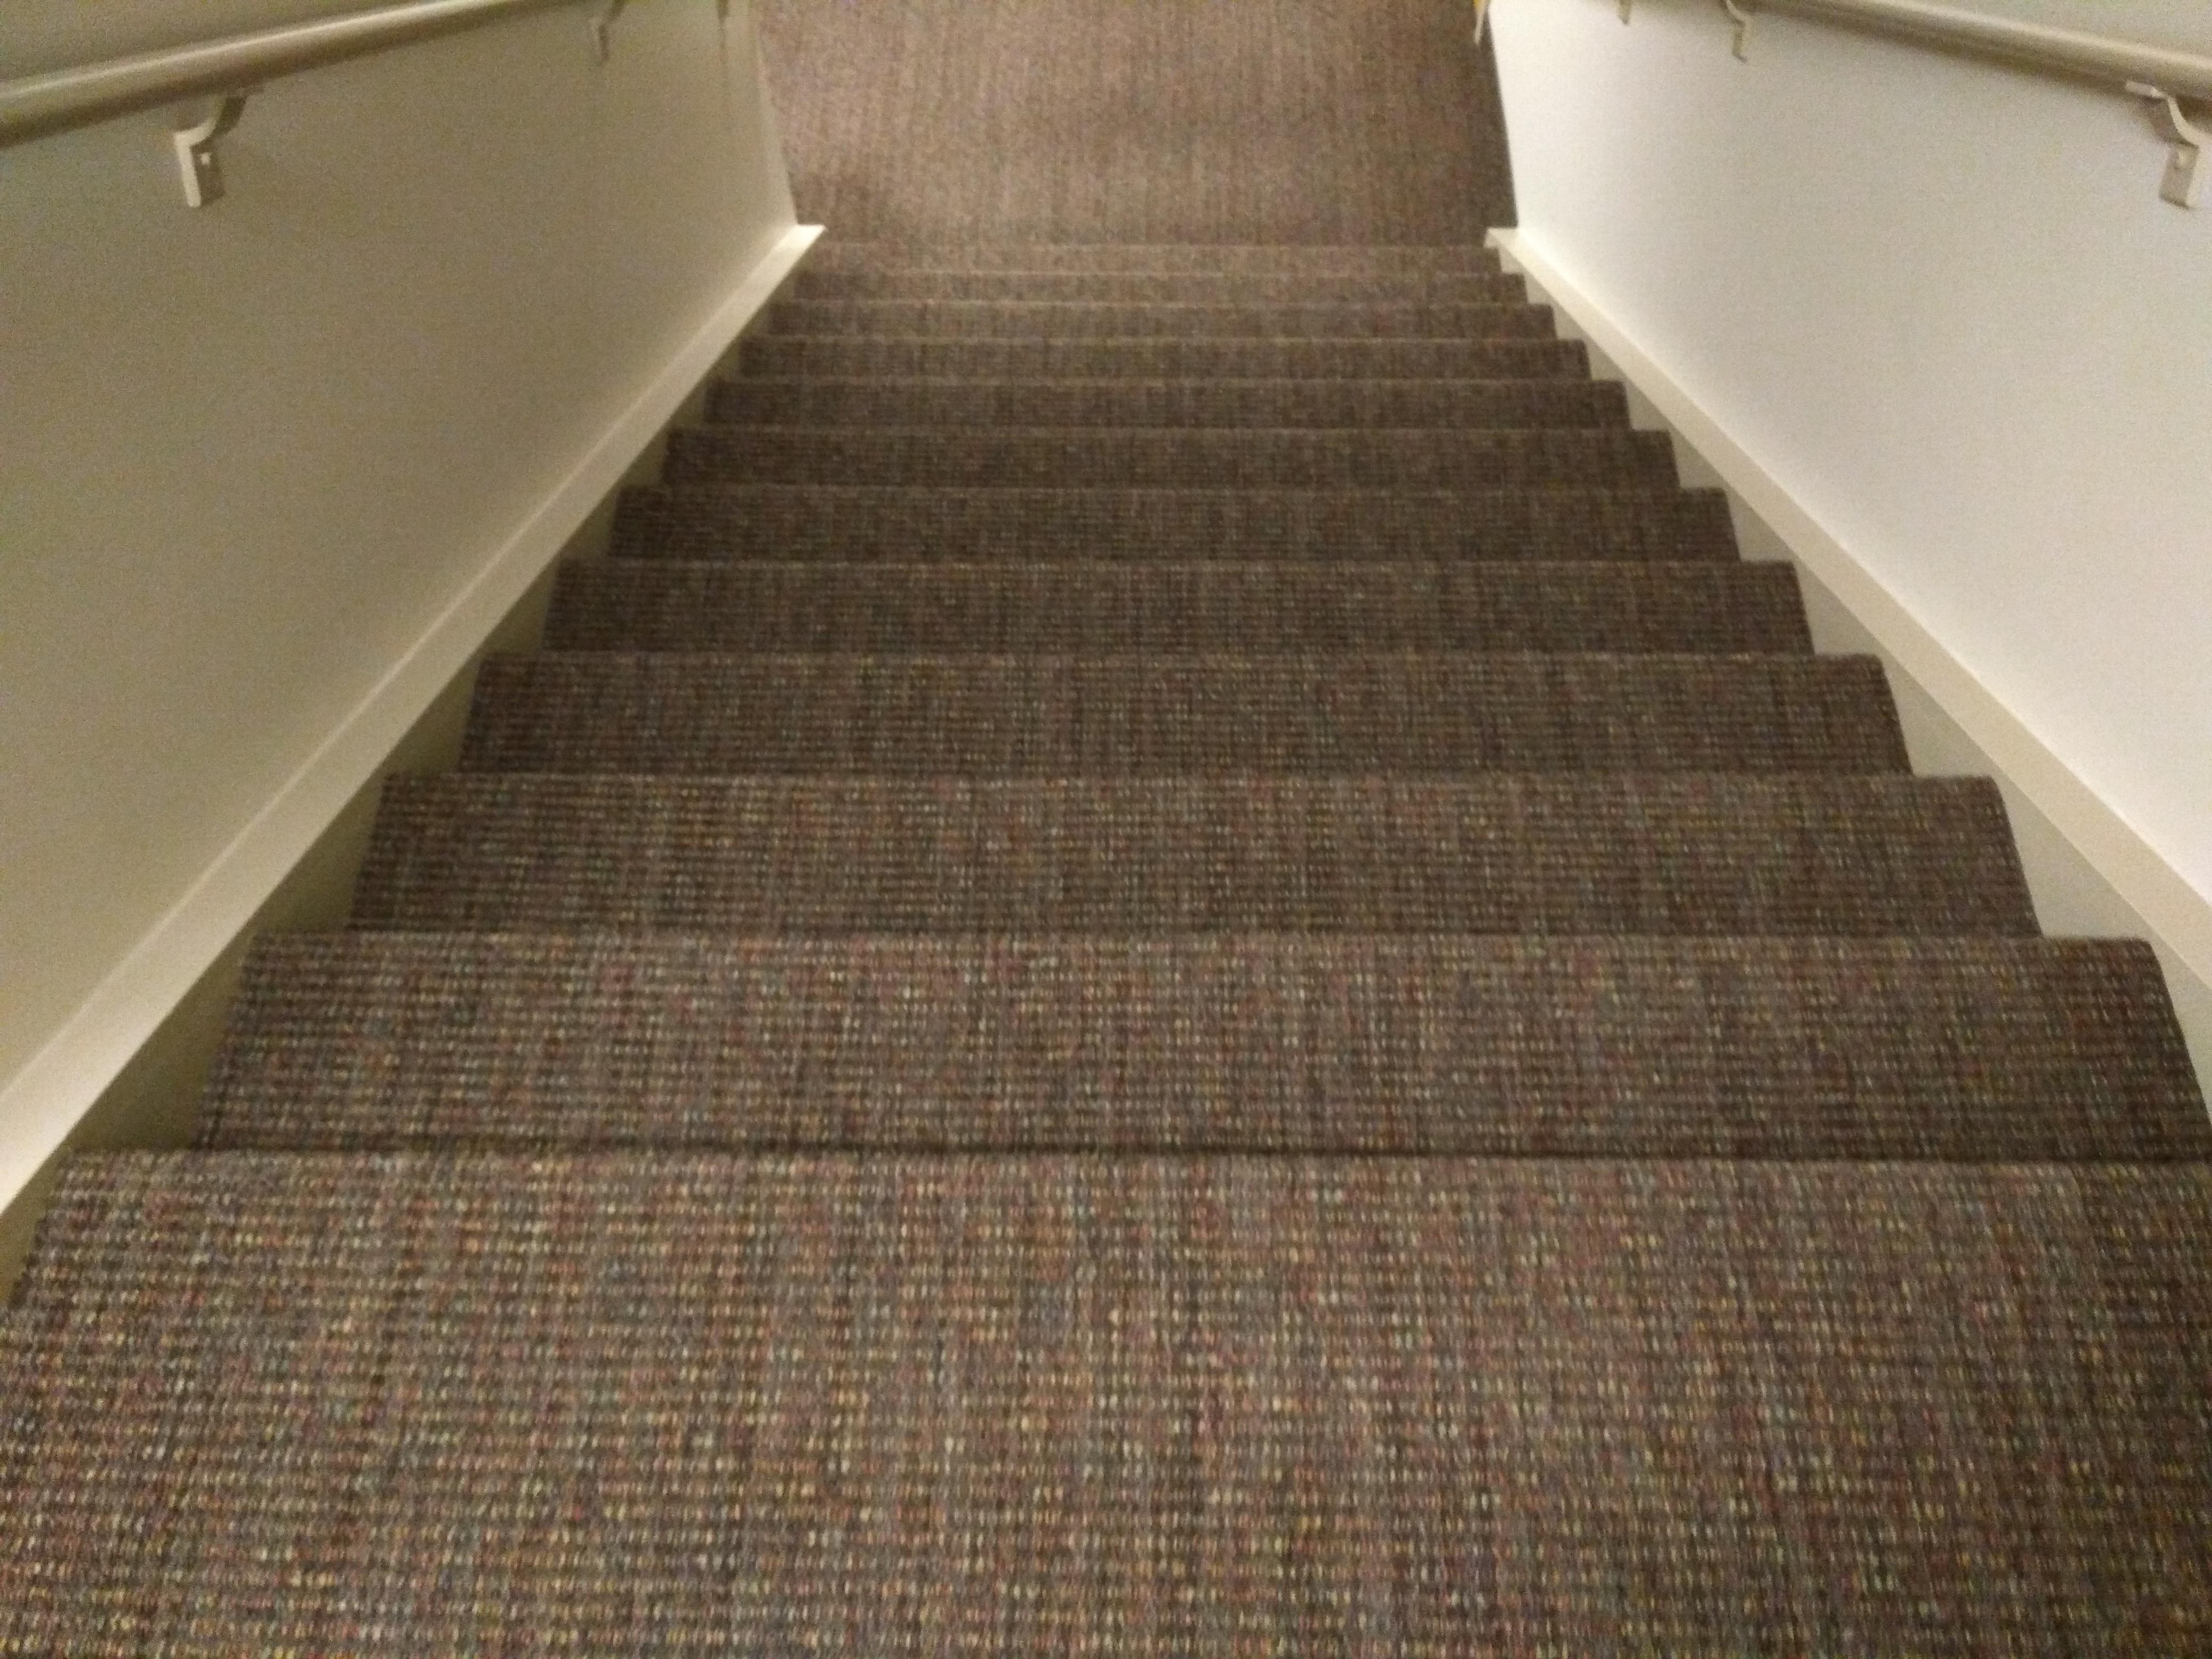stairs_down: (71, 220, 2212, 1185)
